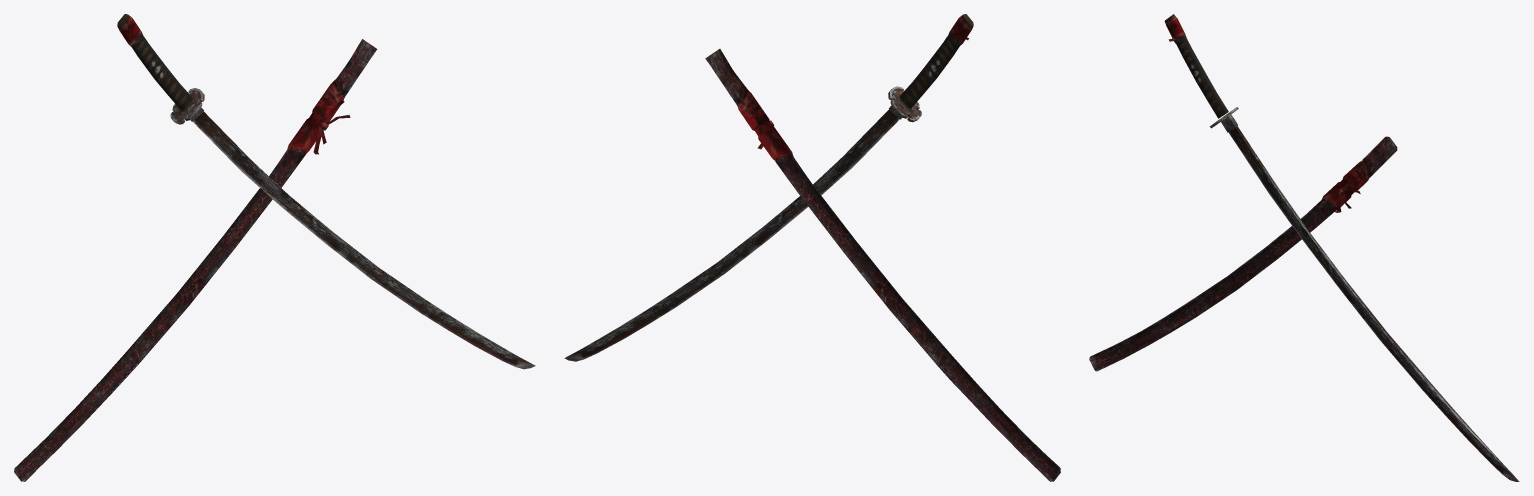
The model's file is katana.glb.
The picture shows the model from 3 angles, left to right: view 1: azimuth 30°, elevation 25°; view 2: azimuth 150°, elevation 25°; view 3: azimuth 330°, elevation 25°; orthographic projection. The views are drawn at different scales.
Parts seen in each view (by area): view 1: Scabbard_Base_0_7, Sword_Blade_0_5, Scabbard_Wrapping_0_8, Sword_Handle_0_4; view 2: Scabbard_Base_0_7, Sword_Blade_0_5, Sword_Handle_0_4, Scabbard_Wrapping_0_8; view 3: Scabbard_Base_0_7, Sword_Blade_0_5, Sword_Handle_0_4, Scabbard_Wrapping_0_8.
Part boxes in pixels (x1,y1,x2,y2): Scabbard_Base_0_7: (14, 39, 377, 481); Sword_Blade_0_5: (170, 88, 535, 369); Scabbard_Wrapping_0_8: (108, 80, 350, 392); Sword_Handle_0_4: (117, 14, 192, 110); Scabbard_Base_0_7: (705, 49, 1060, 481); Sword_Blade_0_5: (564, 86, 921, 361); Sword_Handle_0_4: (899, 14, 973, 108); Scabbard_Wrapping_0_8: (737, 89, 965, 394); Scabbard_Base_0_7: (1089, 136, 1397, 371); Sword_Blade_0_5: (1210, 107, 1519, 481); Sword_Handle_0_4: (1164, 14, 1228, 118); Scabbard_Wrapping_0_8: (1172, 160, 1369, 331).
Bounding box in the file's own units: 166 × 139 × 10.82.
4 materials, 4 textured.
